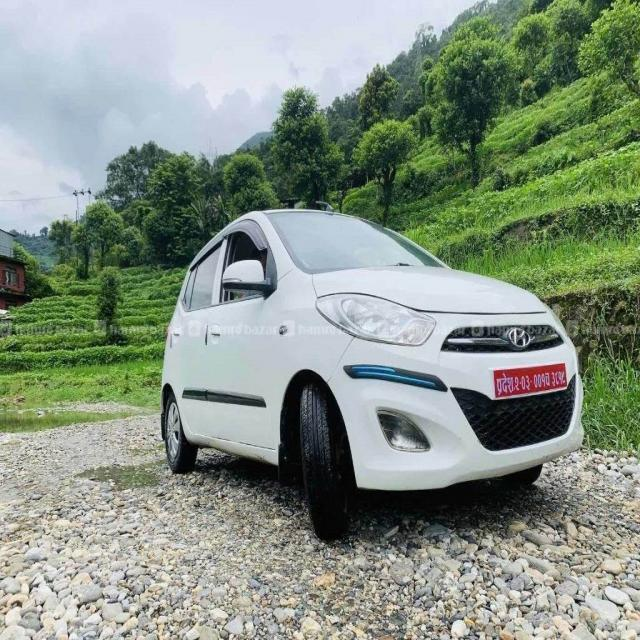License-plate: (492, 365, 568, 402)
